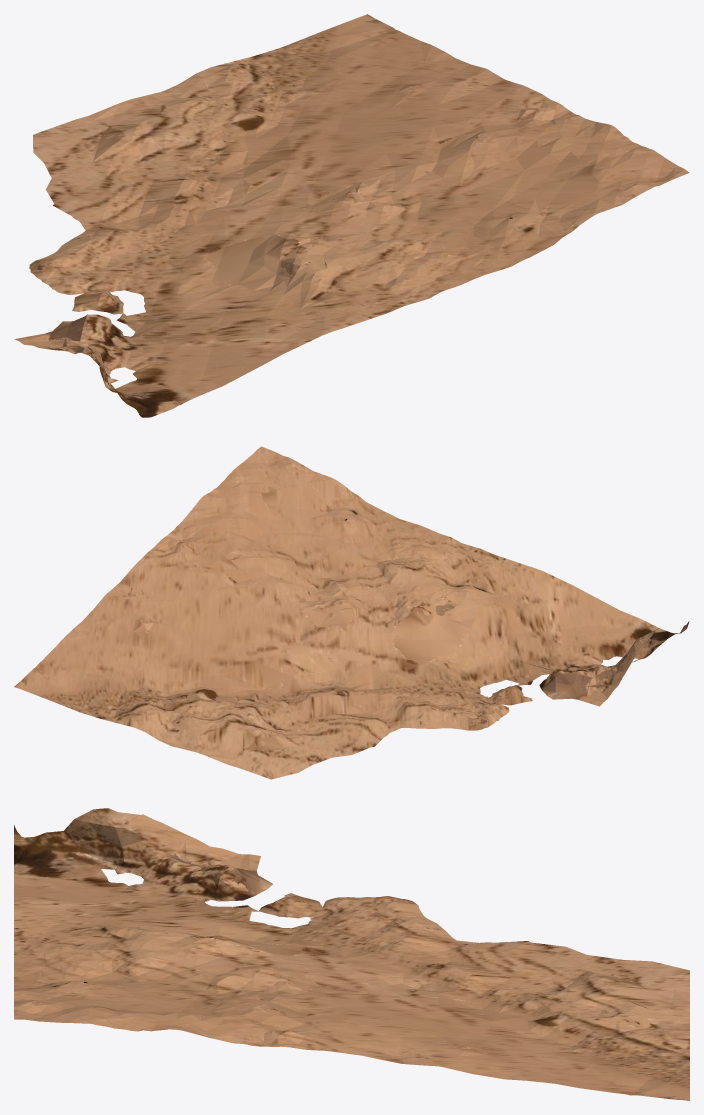
3 views of the same model, one above another, from view 1: azimuth 30°, elevation 25°; view 2: azimuth 150°, elevation 25°; view 3: azimuth 270°, elevation 25° (orthographic). The views are drawn at different scales.
Bounding box in the file's own units: 1.04 × 0.2083 × 1.04.
Materials: 2 (2 with a texture image).
